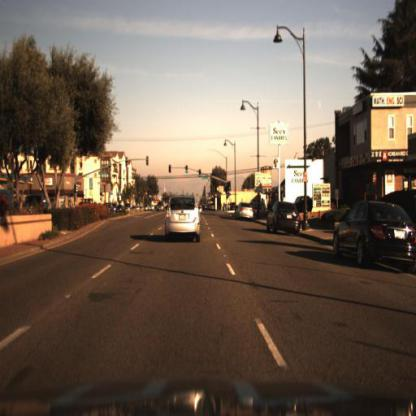car: (334, 199, 416, 273), (163, 190, 201, 244), (263, 198, 305, 242), (236, 200, 256, 229), (291, 191, 312, 209)
trafficLight-Green: (227, 181, 235, 197), (185, 165, 192, 178), (197, 171, 204, 183), (183, 164, 189, 177), (198, 169, 204, 182), (229, 185, 234, 195), (225, 189, 230, 197)
